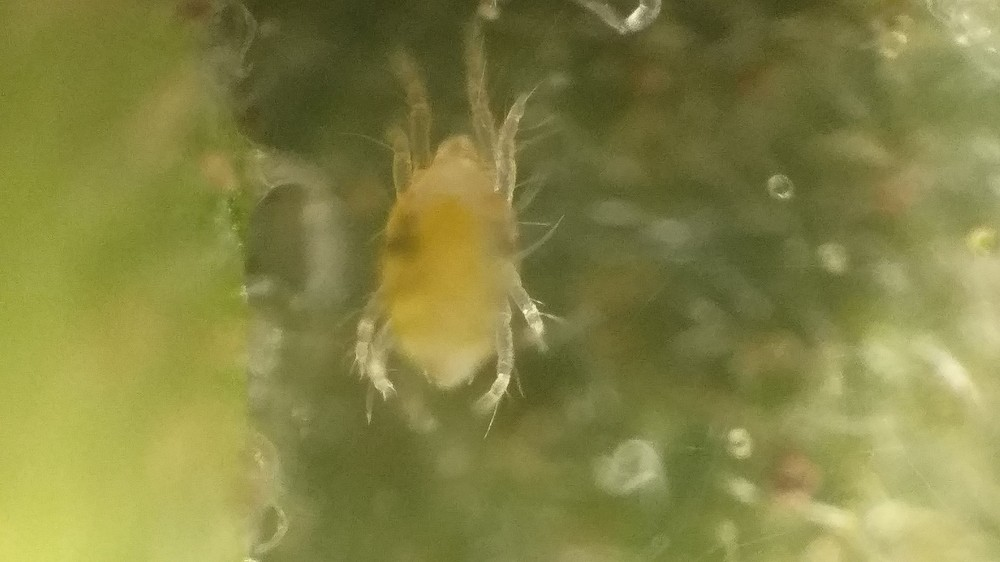Aracnido Rojo: (317, 35, 593, 452)
